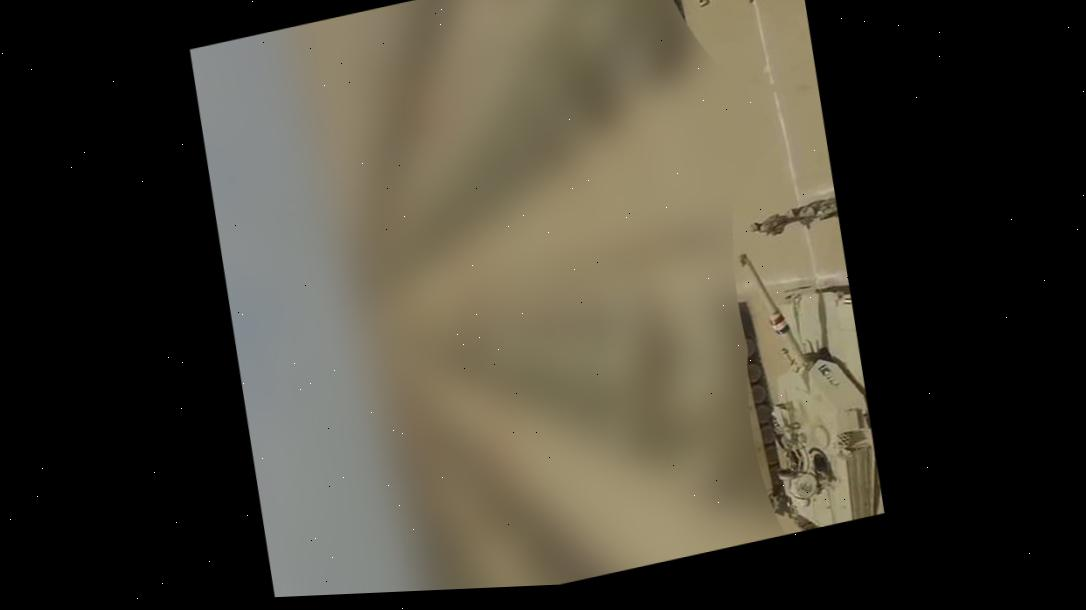tank: (709, 190, 891, 541), (637, 0, 805, 37)
